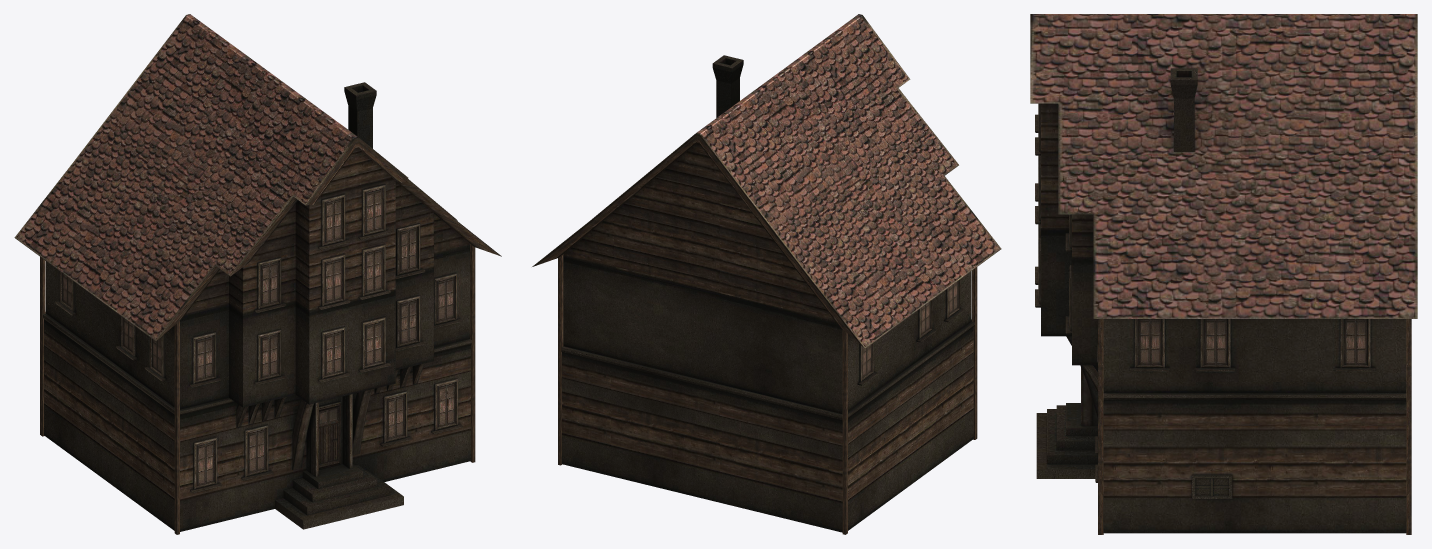
File: big_old_house.obj
3 views of the same model, side by side, from view 1: azimuth 30°, elevation 25°; view 2: azimuth 150°, elevation 25°; view 3: azimuth 270°, elevation 25° (orthographic). The views are drawn at different scales.
Parts seen in each view (by area): view 1: Old_Big_House; view 2: Old_Big_House; view 3: Old_Big_House.
Part boxes in pixels (<box>): Old_Big_House: <box>14,14,501,534</box>; Old_Big_House: <box>532,14,1001,534</box>; Old_Big_House: <box>1030,14,1417,534</box>.
Size of the model in its own units: 6.41 by 6.75 by 5.42.
1 material, 1 textured.
